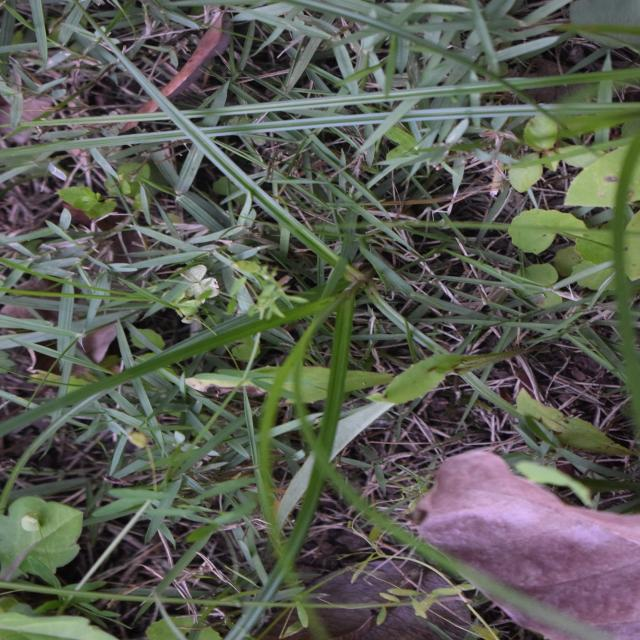sedge: (20, 0, 527, 506)
